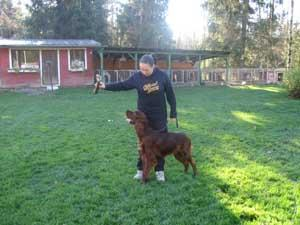Irish_setter: (125, 109, 202, 185)
